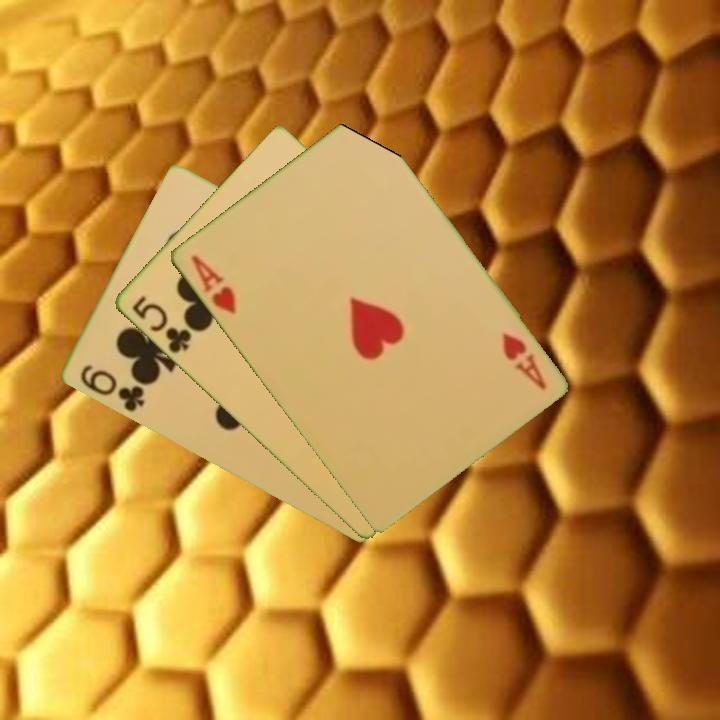5c: (127, 292, 194, 357)
6c: (76, 361, 147, 415)
Ah: (186, 251, 238, 317), (497, 328, 549, 393)
